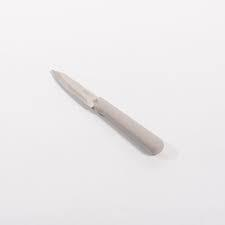Knife: (48, 65, 164, 156)
